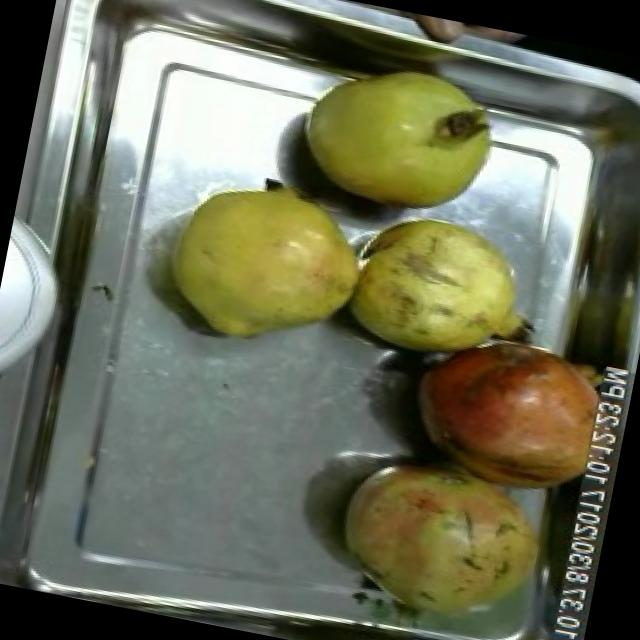fruit: (144, 150, 388, 368), (392, 309, 638, 516), (279, 41, 516, 234), (330, 193, 552, 382), (318, 440, 520, 632)
